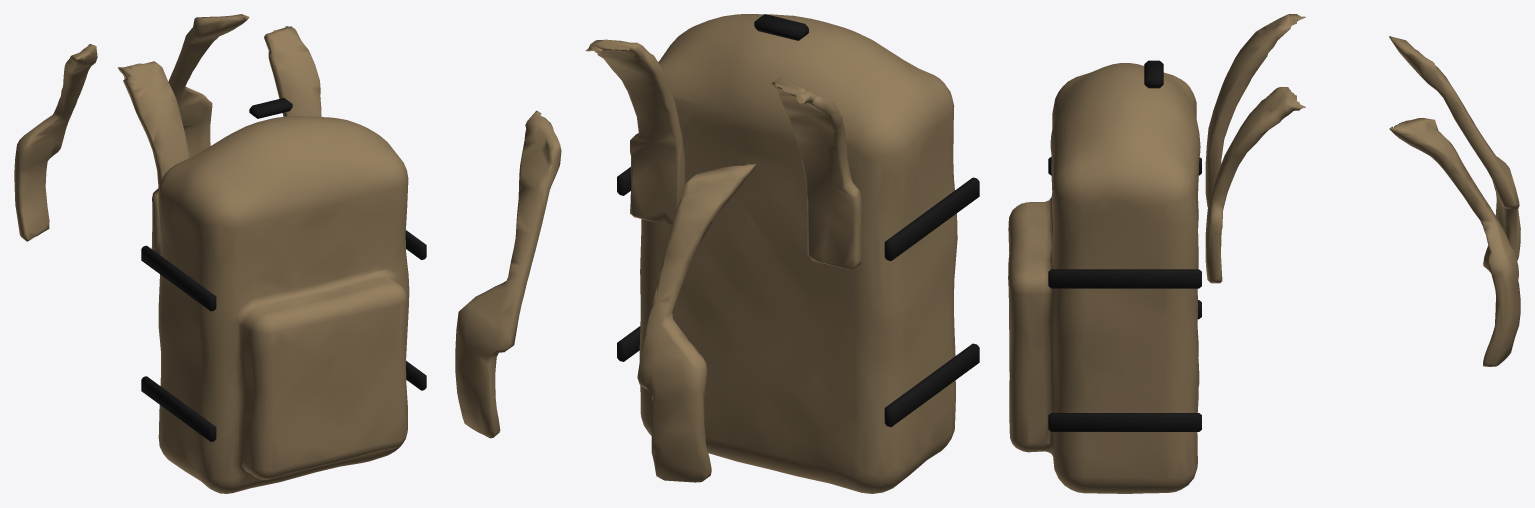
Rendered from pack_assault.glb.
3 renders of one model, left to right at view 1: azimuth 30°, elevation 25°; view 2: azimuth 150°, elevation 25°; view 3: azimuth 270°, elevation 25°, orthographic. The views are drawn at different scales.
Parts seen in each view (by area): view 1: pack_assault_LOD0; view 2: pack_assault_LOD0; view 3: pack_assault_LOD0.
Boxes of the visible parts, x1,y1,x2,y2 form: pack_assault_LOD0: [14, 14, 426, 493]; pack_assault_LOD0: [455, 14, 979, 493]; pack_assault_LOD0: [1008, 14, 1520, 493].
Size of what is drawn, in the model's own units: 0.288 by 0.4541 by 0.5339.
